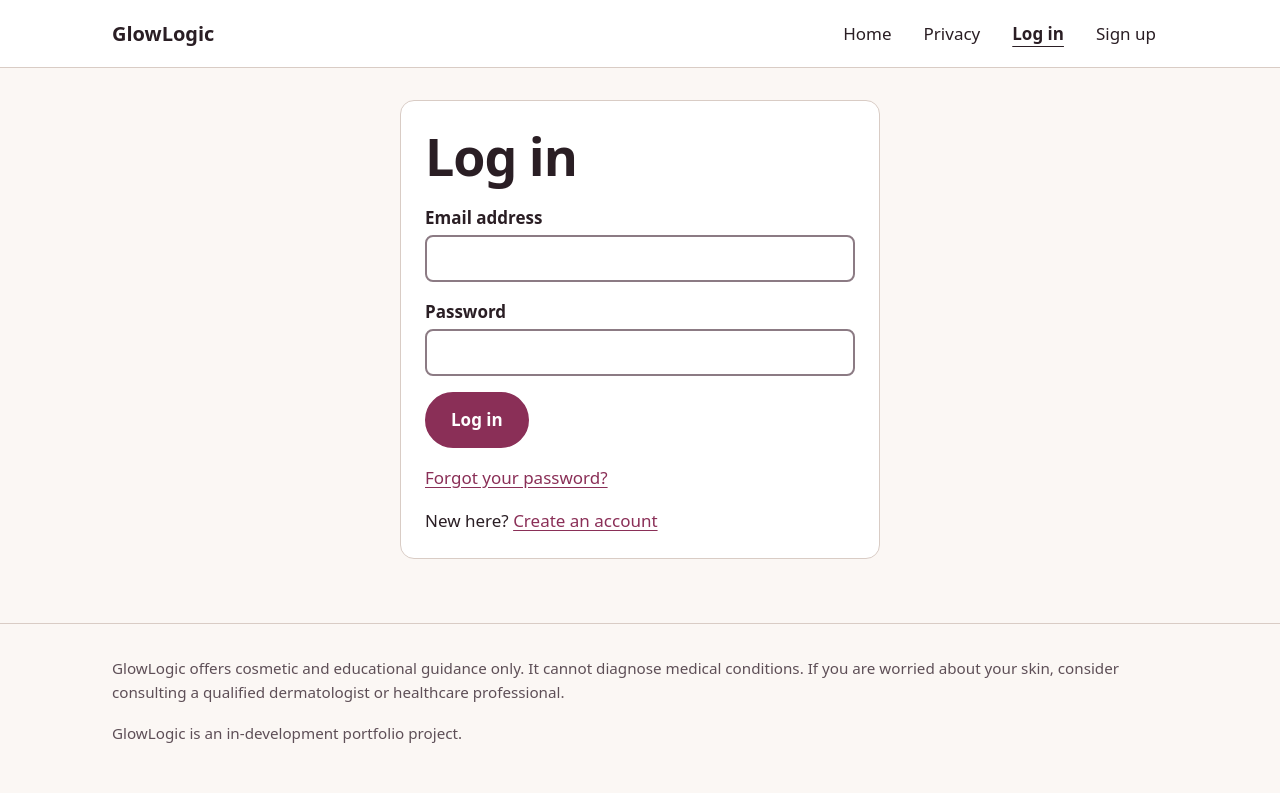
auth wiring (no Supabase keys in tests) › explains an unconfigured app instead of crashing on sign-in
Type "a@b.co" into the field labelled "Email address" at (640, 258), box [425, 235, 855, 282]
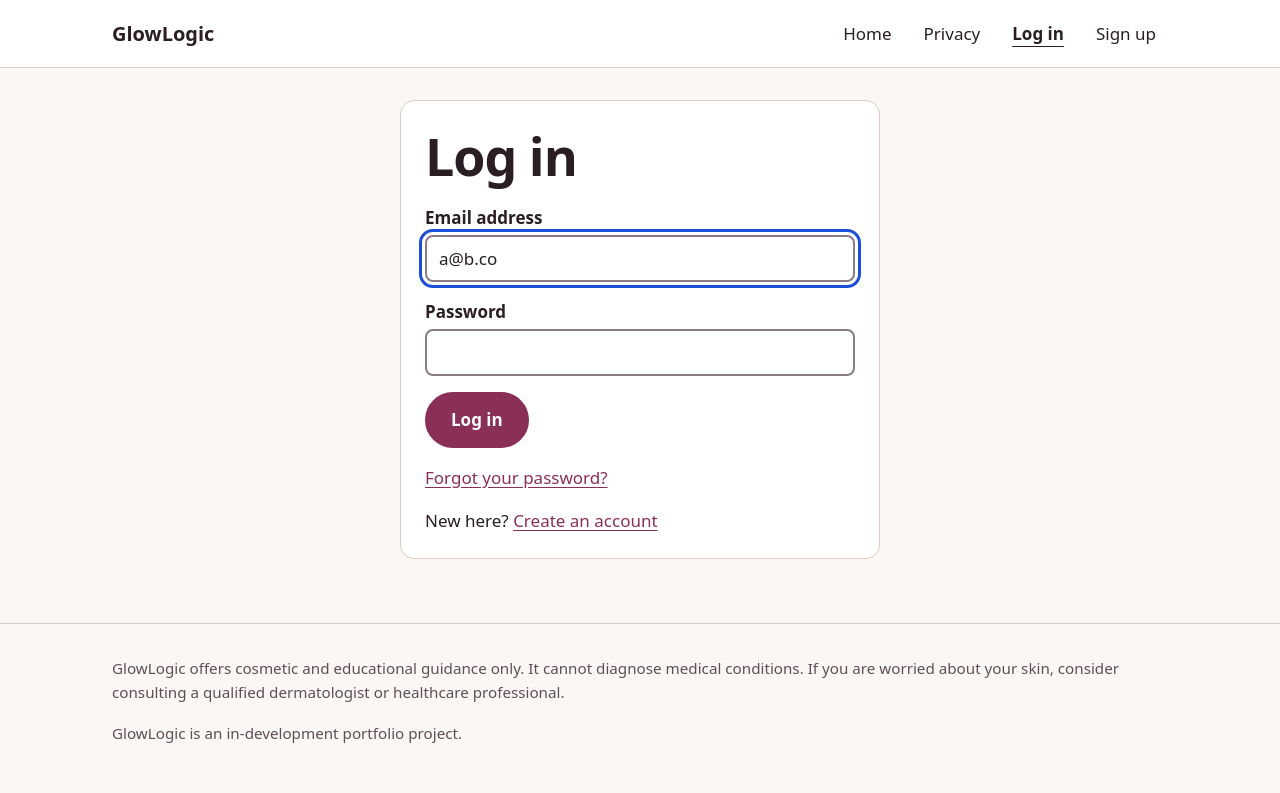
Type "whatever" into the password field labelled "Password" at (640, 353), box [425, 329, 855, 376]
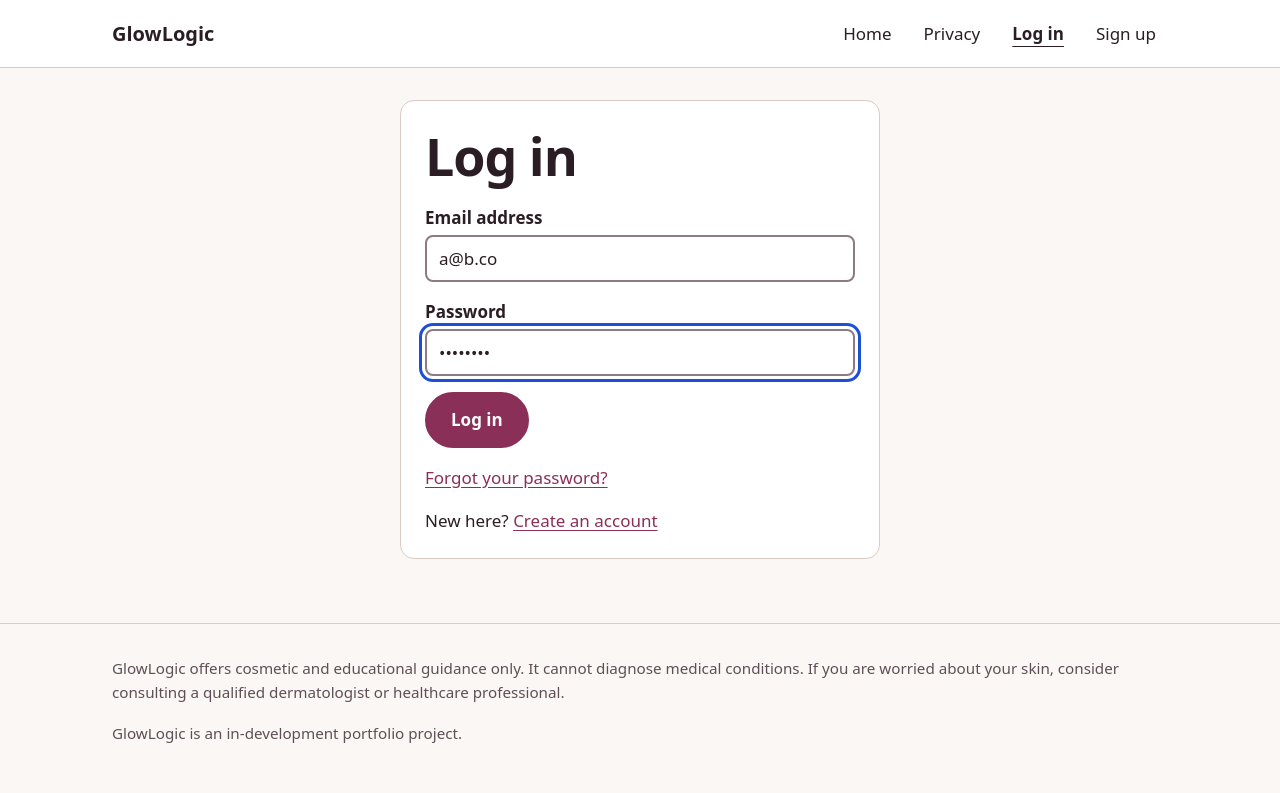
Click the button "Log in" at (477, 420), box [425, 392, 529, 448]
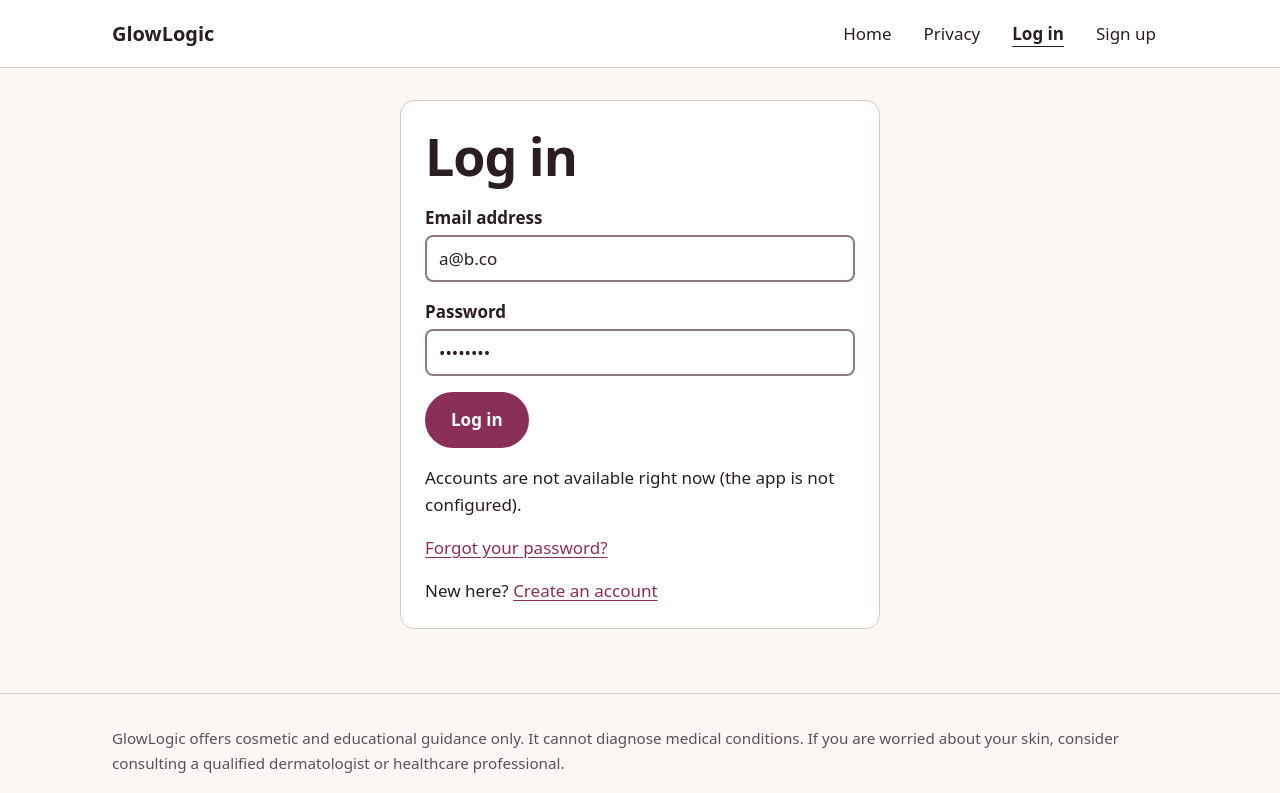
Check: the text "Accounts are not available right now (the app is not configured)." is shown, box [425, 464, 855, 518]
